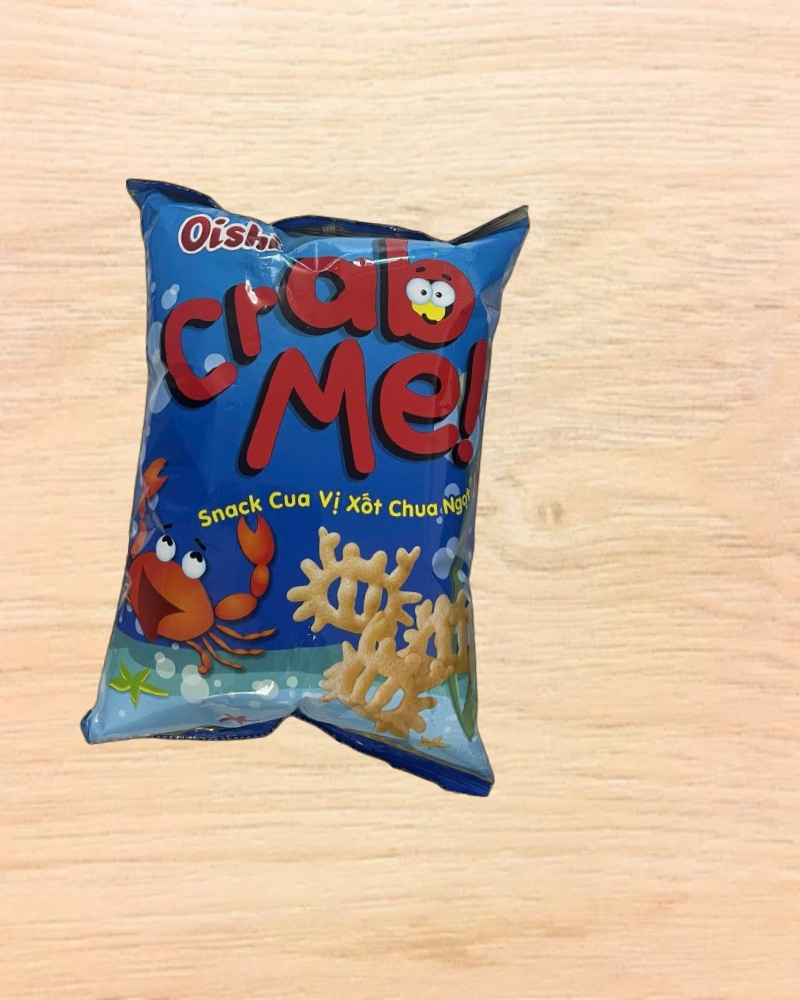Snack chay: (76, 171, 544, 800)
